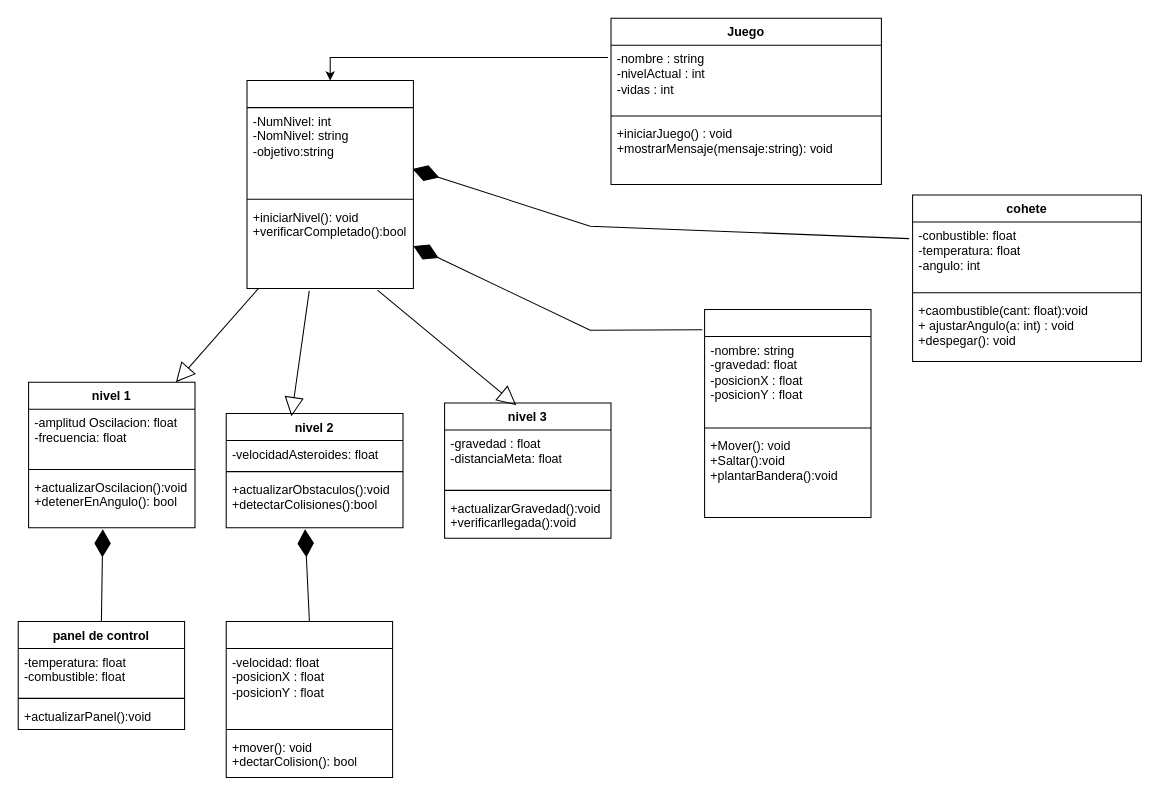
This 1160x799 diagram has some shape labels left out. The box of each missing label's shape, as (x1, y1, x2, y2) in pixels:
asteroides: (225, 620, 393, 777)
astronauta: (704, 308, 871, 517)
Niveles: (246, 80, 413, 289)
